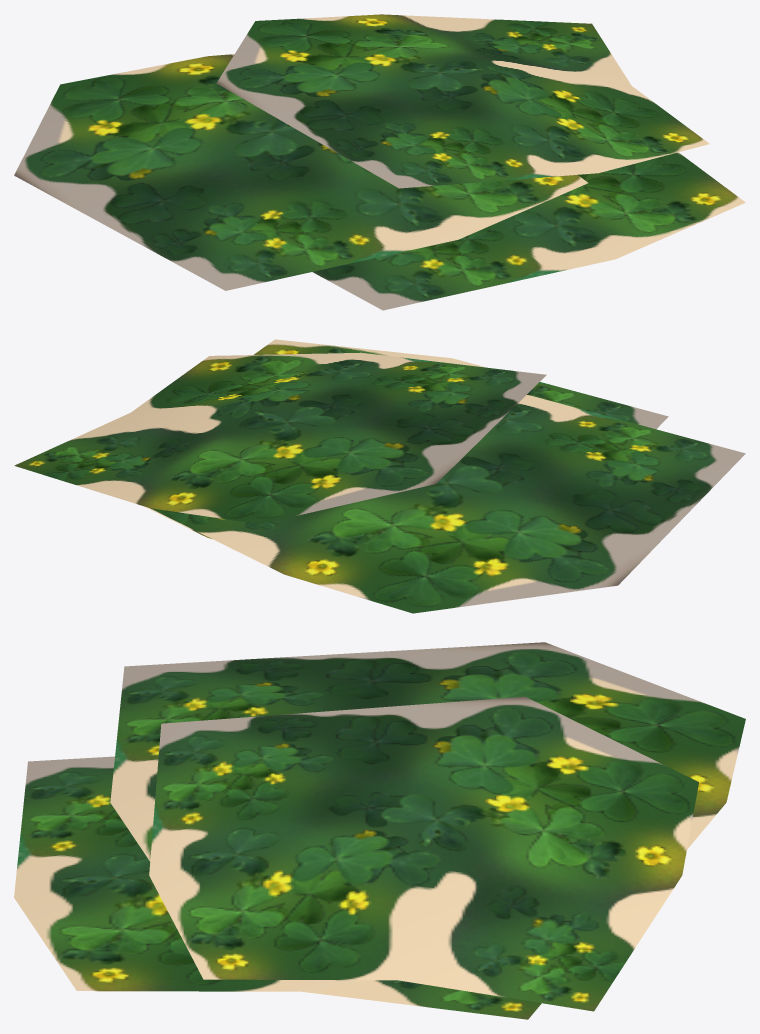
Rendered from Flower_Mesh.fbx.
The picture shows the model from 3 angles, top to bottom: view 1: azimuth 30°, elevation 25°; view 2: azimuth 150°, elevation 25°; view 3: azimuth 270°, elevation 25°; orthographic projection. The views are drawn at different scales.
Visible parts, largest first — view 1: Plant_flower; view 2: Plant_flower; view 3: Plant_flower.
Part boxes in pixels (<box>): Plant_flower: <box>14,14,745,310</box>; Plant_flower: <box>14,339,745,613</box>; Plant_flower: <box>14,642,745,1019</box>.
Bounding box in the file's own units: 14.33 × 1.61 × 12.36.
